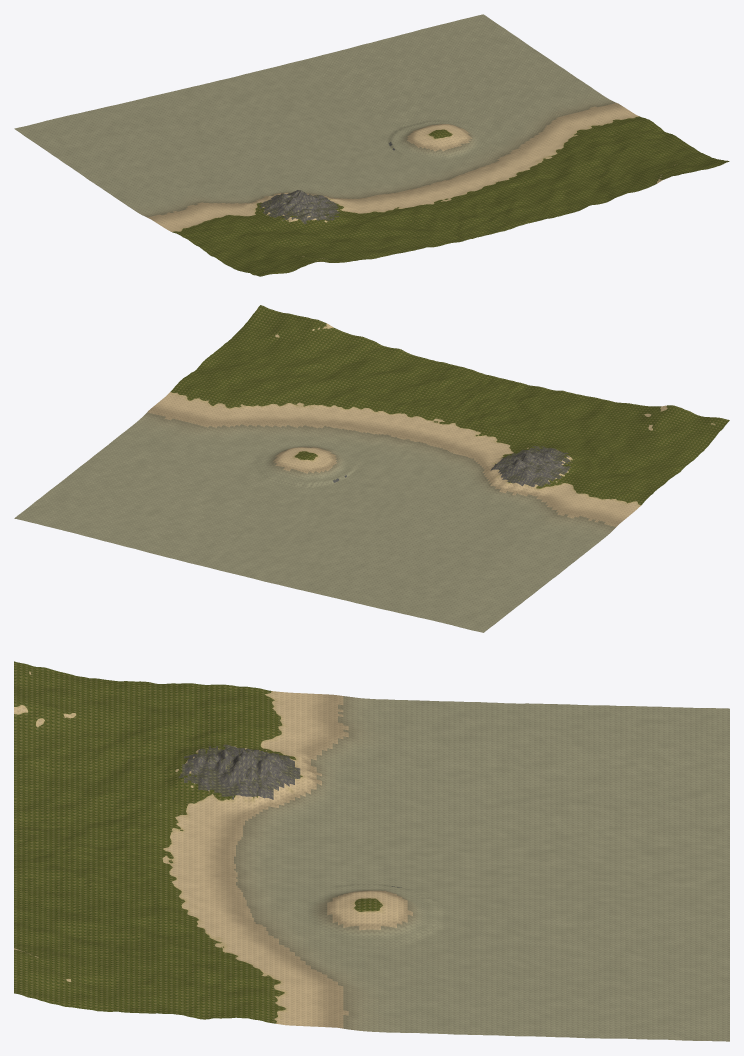
File: tidewater_terrain.glb
The picture shows the model from 3 angles, top to bottom: view 1: azimuth 30°, elevation 25°; view 2: azimuth 150°, elevation 25°; view 3: azimuth 270°, elevation 25°; orthographic projection. The views are drawn at different scales.
Visible parts, largest first — view 1: tw_terrain; view 2: tw_terrain; view 3: tw_terrain.
Boxes of the visible parts, box(x1,y1,x2,y2) form: tw_terrain: box(14, 14, 729, 276); tw_terrain: box(14, 305, 729, 632); tw_terrain: box(14, 661, 729, 1041).
Bounding box in the file's own units: 440 × 31.74 × 400.
Materials: 4 (4 with a texture image).
